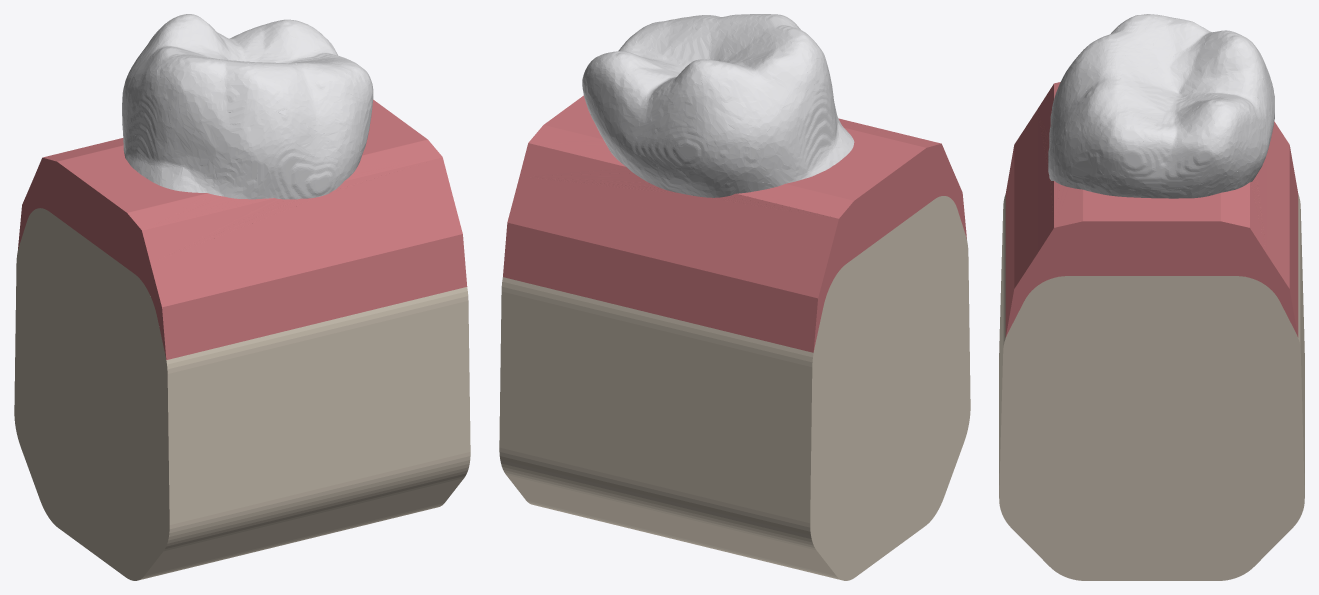
The model's file is crown.glb.
3 views of the same model, side by side, from view 1: azimuth 30°, elevation 25°; view 2: azimuth 150°, elevation 25°; view 3: azimuth 270°, elevation 25° (orthographic). The views are drawn at different scales.
Visible parts, largest first — view 1: bone, gum, steel; view 2: bone, gum, steel; view 3: bone, steel, gum.
Boxes of the visible parts, x1,y1,x2,y2 form: bone: [14, 208, 470, 580]; gum: [18, 99, 467, 359]; steel: [122, 14, 373, 199]; bone: [499, 196, 970, 580]; gum: [503, 95, 966, 352]; steel: [582, 14, 854, 197]; bone: [999, 194, 1304, 580]; steel: [1048, 14, 1274, 198]; gum: [1005, 82, 1298, 337].
Bounding box in the file's own units: 0.0142 × 0.0213 × 0.0127.
